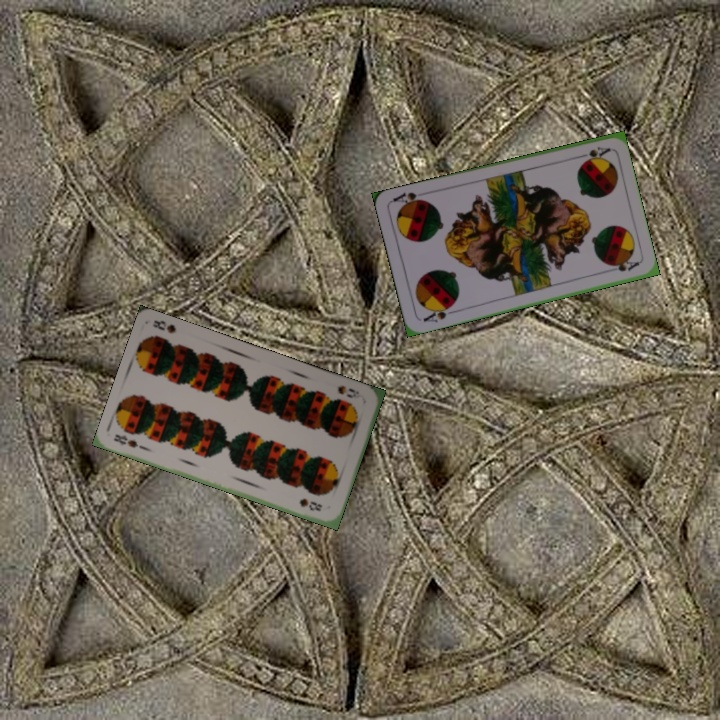S8: (110, 430, 149, 453), (334, 381, 367, 401)
SA: (419, 301, 458, 325), (572, 143, 612, 164)
